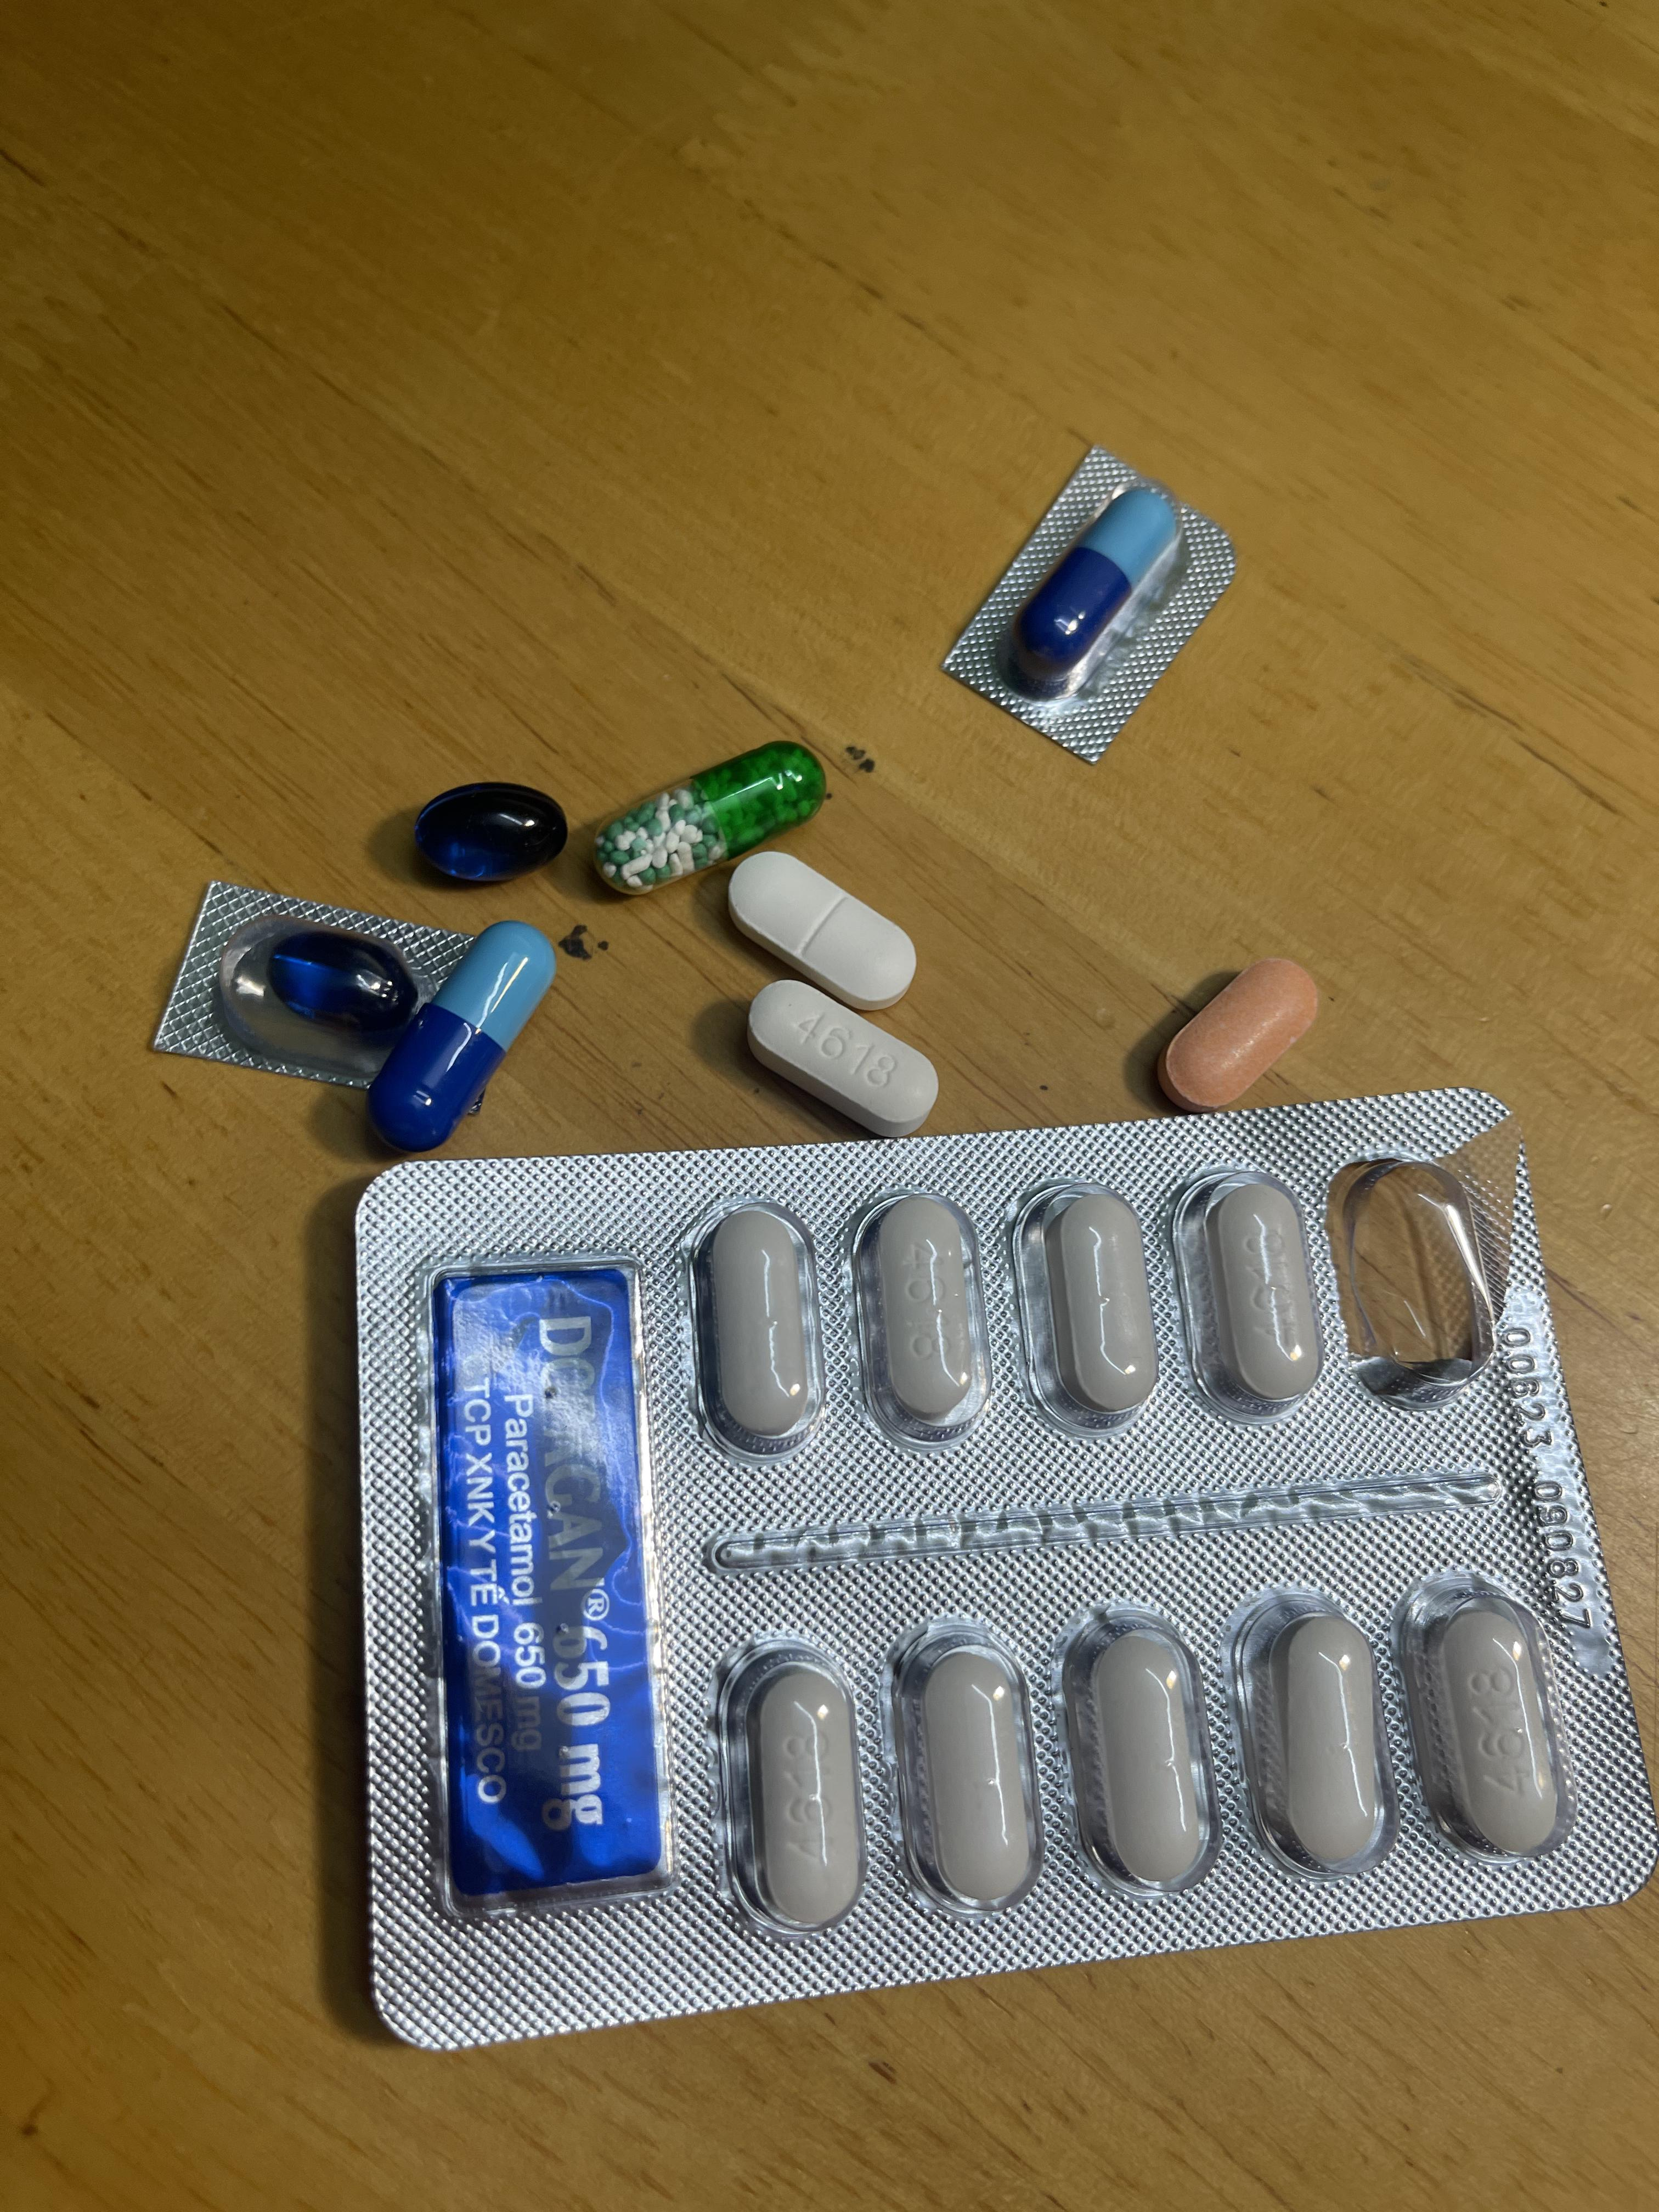Lincomyxin_500mg: (413, 782, 570, 883), (267, 932, 411, 1028)
Loratadine_10mg: (1157, 960, 1321, 1109)
Paracetamol_350mg: (727, 852, 911, 1008)
Paracetamol_500mg: (1405, 1578, 1577, 1860), (1236, 1588, 1398, 1879), (1061, 1609, 1220, 1897), (894, 1627, 1044, 1921), (727, 1644, 870, 1940), (854, 1193, 988, 1446), (1188, 1174, 1328, 1414), (1032, 1190, 1162, 1428), (697, 1207, 821, 1451), (746, 986, 938, 1127)
Paracetamol_650mg: (592, 744, 819, 894)
pill: (369, 923, 554, 1150), (1014, 486, 1180, 686)
